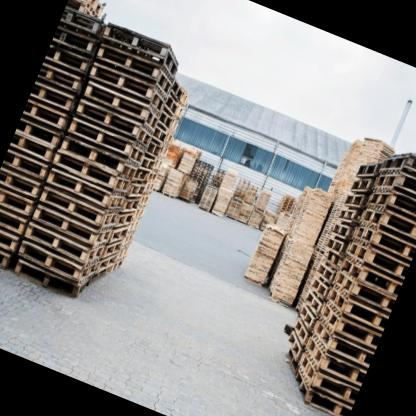BoxFace: (101, 18, 180, 79), (86, 60, 167, 115), (50, 149, 132, 192), (345, 238, 409, 282)
